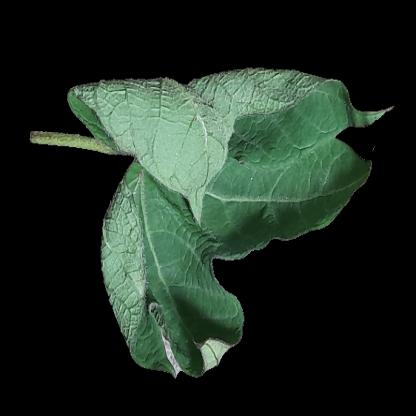curl_stage2: (105, 89, 251, 188), (235, 73, 313, 164), (114, 210, 169, 334), (192, 340, 230, 369)
healthy: (210, 198, 257, 232), (190, 292, 227, 333), (268, 178, 313, 203)
